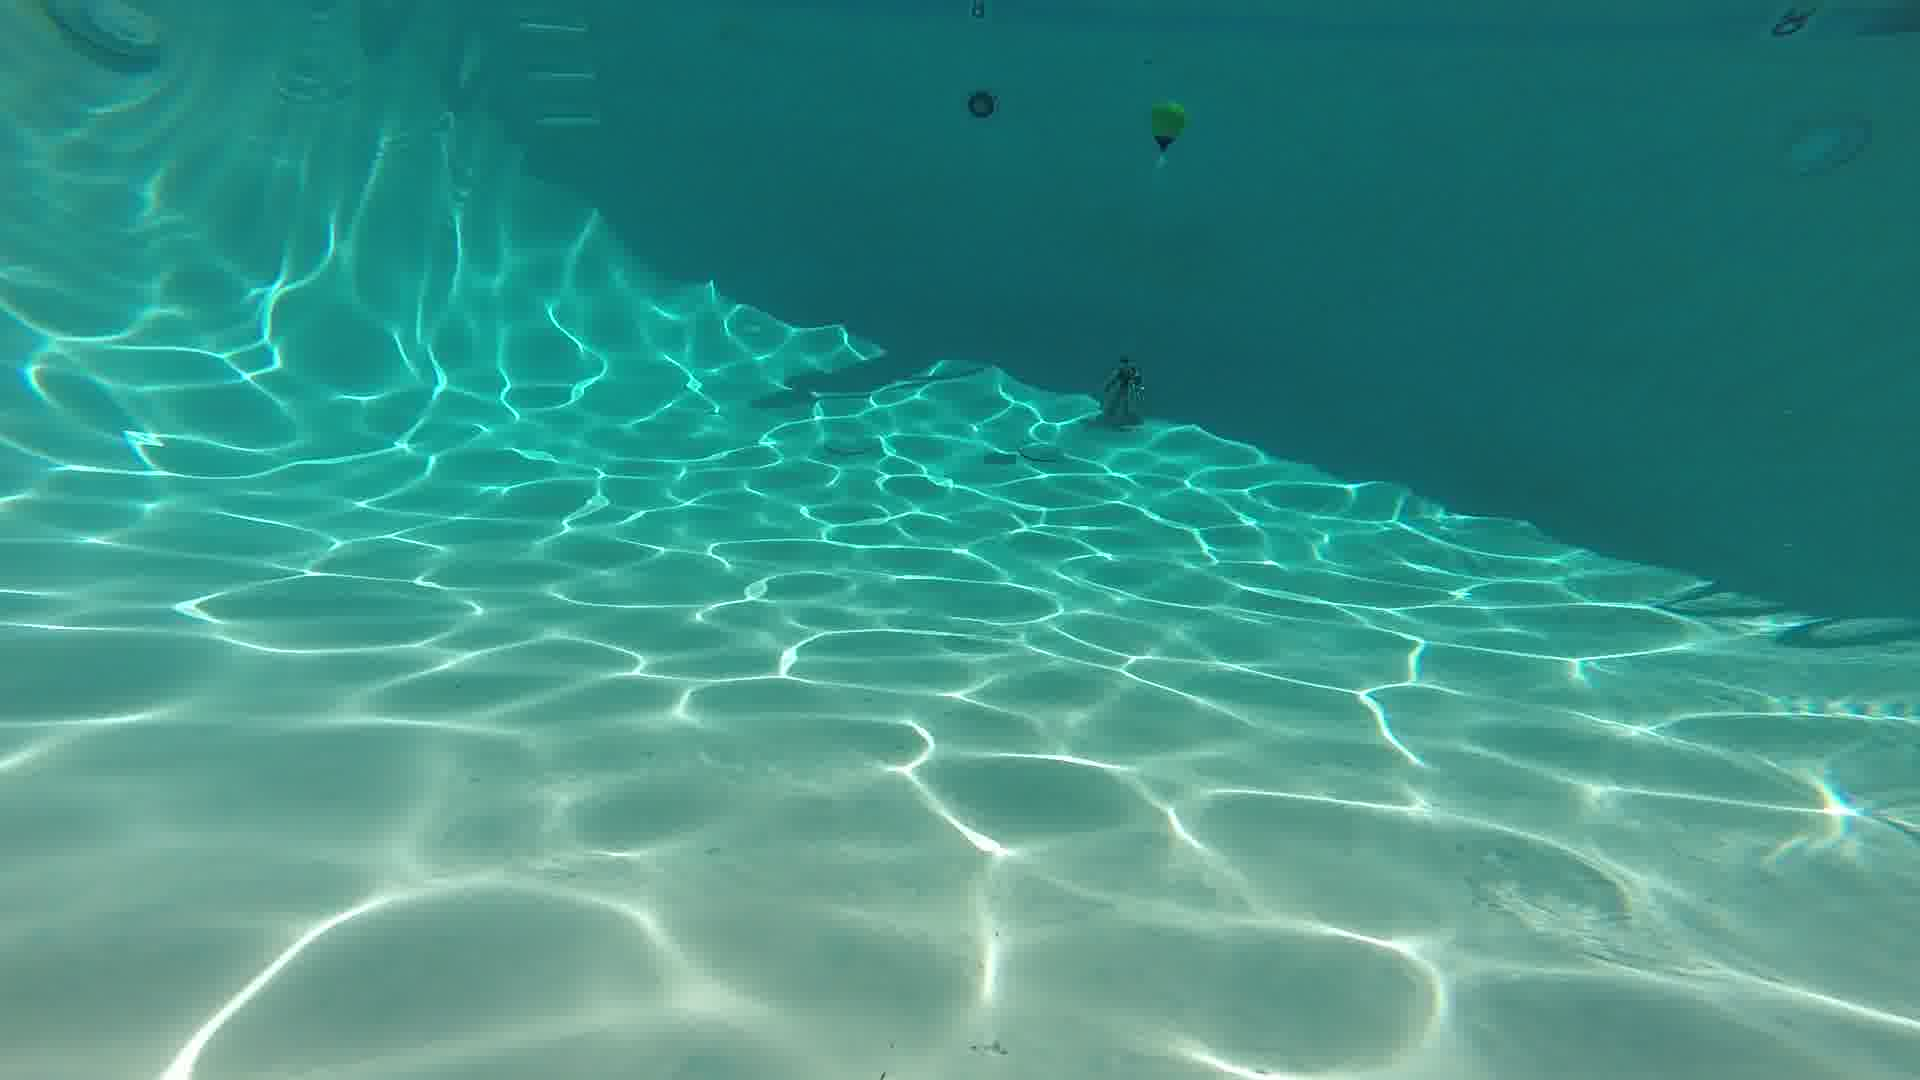yellow buoy: (1149, 88, 1189, 160)
